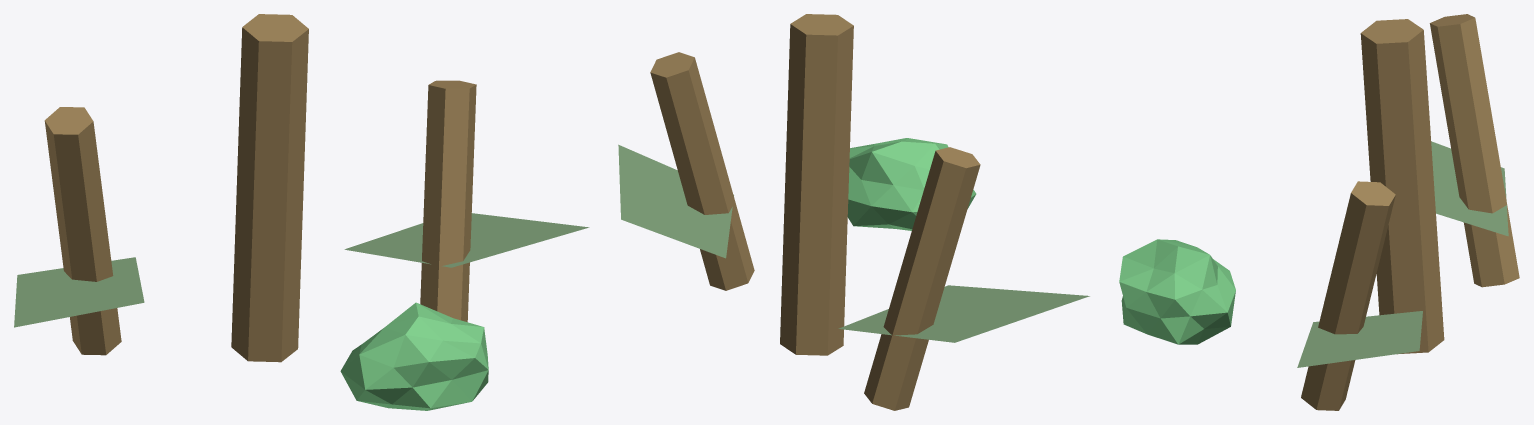
File: t3_fiber_depleted.glb
The picture shows the model from 3 angles, left to right: view 1: azimuth 30°, elevation 25°; view 2: azimuth 150°, elevation 25°; view 3: azimuth 270°, elevation 25°; orthographic projection. The views are drawn at different scales.
Visible parts, largest first — view 1: CutCenterStem, DroppedCottonTuft, CutRightStem, CutLeftStem, WiltedLeafLeft, WiltedLeafRight; view 2: CutCenterStem, CutLeftStem, CutRightStem, DroppedCottonTuft, WiltedLeafRight, WiltedLeafLeft; view 3: CutCenterStem, CutLeftStem, DroppedCottonTuft, CutRightStem, WiltedLeafRight, WiltedLeafLeft.
Part boxes in pixels (<box>): CutCenterStem: <box>231,14,308,362</box>; DroppedCottonTuft: <box>340,302,488,410</box>; CutRightStem: <box>420,80,476,322</box>; CutLeftStem: <box>44,107,121,355</box>; WiltedLeafLeft: <box>14,257,144,327</box>; WiltedLeafRight: <box>344,213,589,267</box>; CutCenterStem: <box>780,14,853,355</box>; CutLeftStem: <box>864,147,980,410</box>; CutRightStem: <box>650,52,754,290</box>; DroppedCottonTuft: <box>847,138,976,230</box>; WiltedLeafRight: <box>618,144,733,258</box>; WiltedLeafLeft: <box>838,285,1089,342</box>; CutCenterStem: <box>1360,19,1444,354</box>; CutLeftStem: <box>1429,14,1519,287</box>; DroppedCottonTuft: <box>1119,239,1235,344</box>; CutRightStem: <box>1301,181,1395,410</box>; WiltedLeafRight: <box>1297,311,1422,367</box>; WiltedLeafLeft: <box>1431,141,1508,236</box>.
Size of the model in its own units: 0.6481 by 0.3837 by 0.4436.
